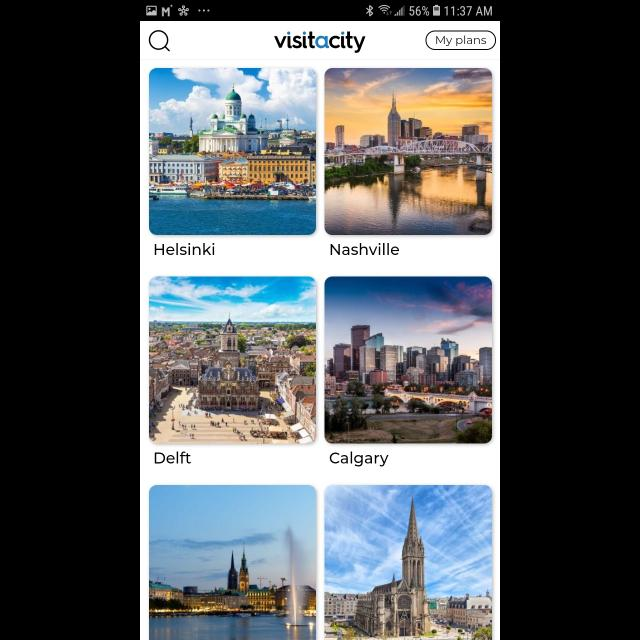icon: (150, 30, 170, 51)
image: (324, 276, 492, 444), (324, 68, 492, 235), (150, 276, 316, 444), (150, 68, 316, 235), (324, 484, 492, 640), (150, 486, 316, 640), (274, 31, 366, 53)
text: (329, 451, 388, 467), (330, 244, 400, 256), (155, 242, 215, 255), (154, 452, 192, 464)
textbutton: (426, 31, 496, 51)
uppertaskbar: (140, 1, 500, 22)
